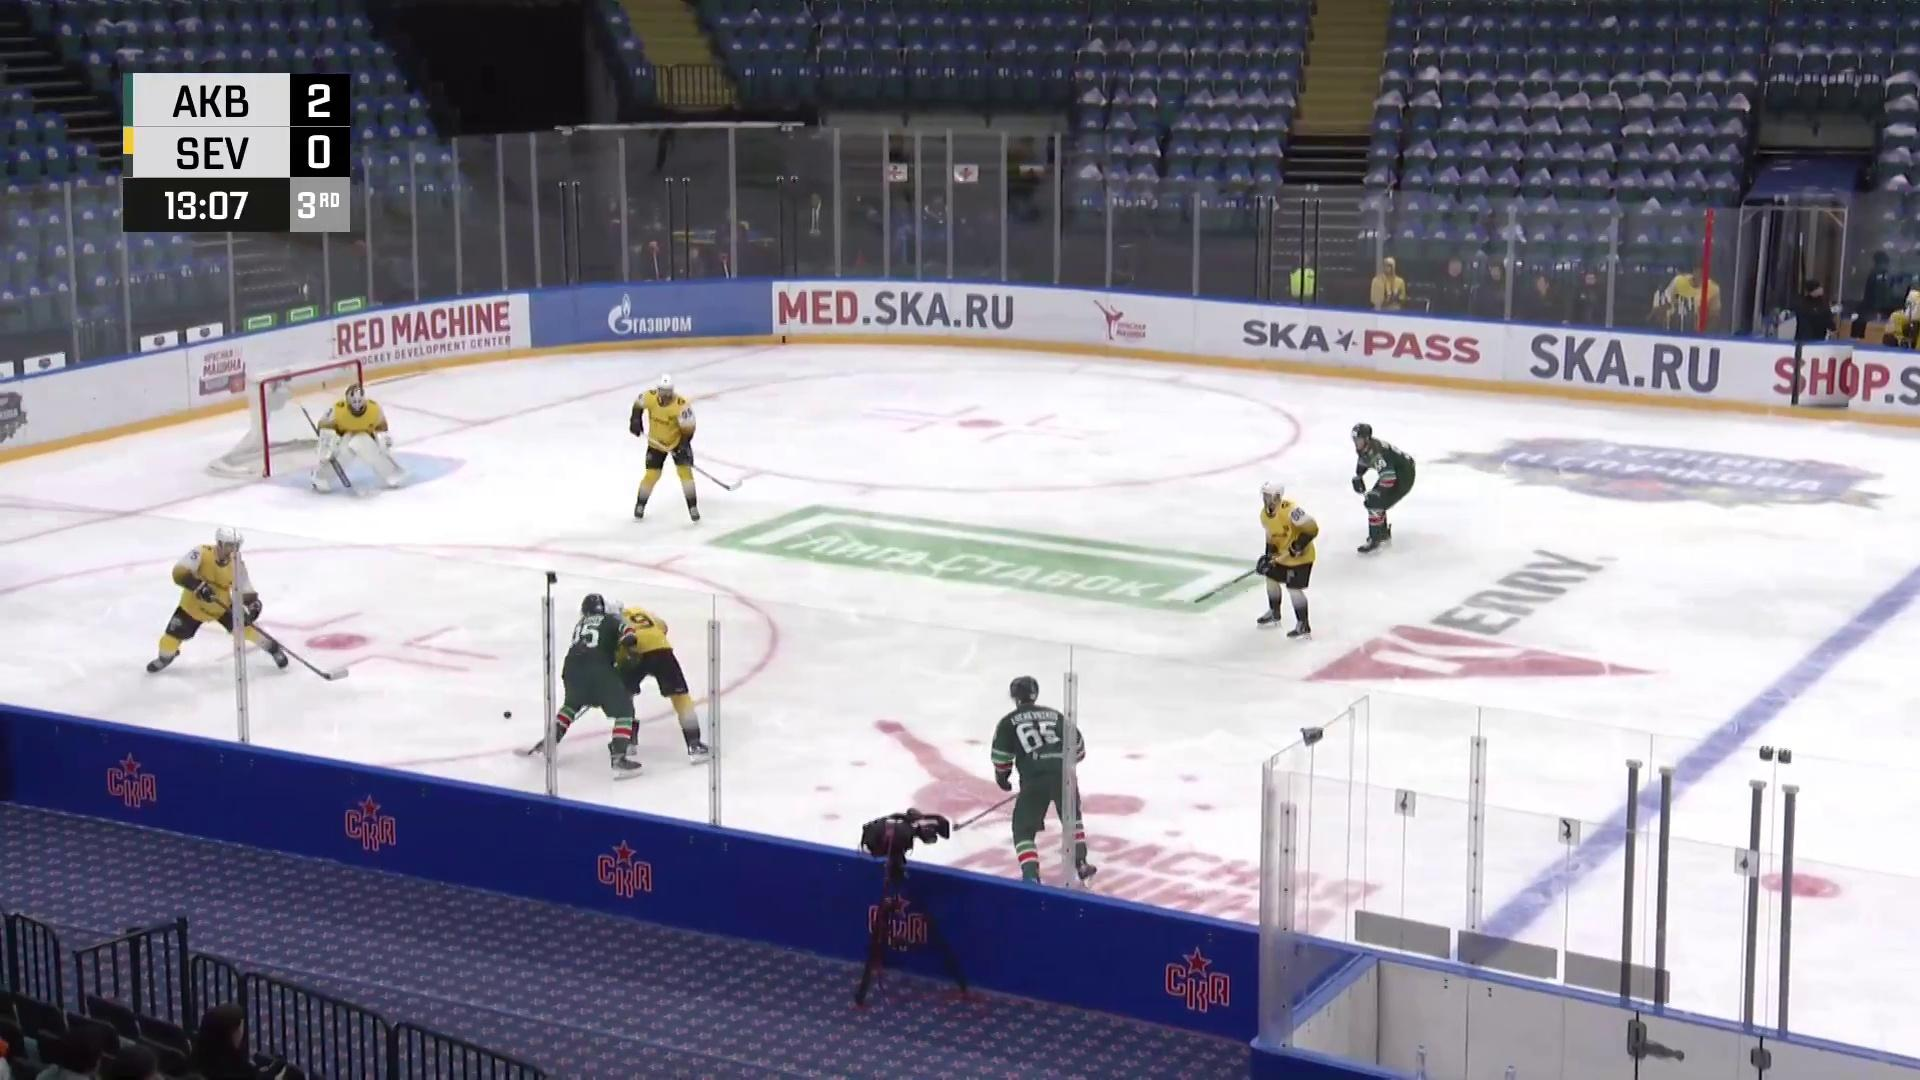ball: (502, 709, 513, 719)
